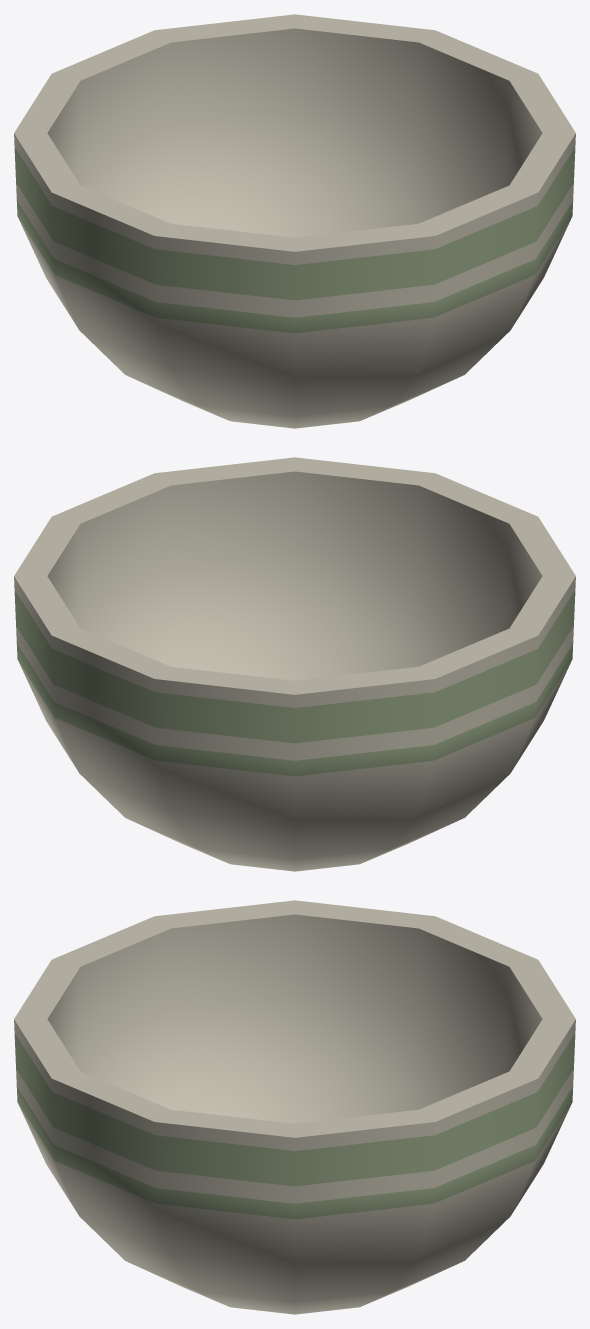
The model's file is Bowl_01.fbx.
3 renders of one model, top to bottom at view 1: azimuth 30°, elevation 25°; view 2: azimuth 150°, elevation 25°; view 3: azimuth 270°, elevation 25°, orthographic.
Visible parts, largest first — view 1: Bowl_01; view 2: Bowl_01; view 3: Bowl_01.
Part boxes in pixels (bbox=[...]): Bowl_01: bbox=[14, 14, 575, 428]; Bowl_01: bbox=[14, 457, 575, 871]; Bowl_01: bbox=[14, 900, 575, 1314].
Bounding box in the file's own units: 0.1802 × 0.0852 × 0.1802.
